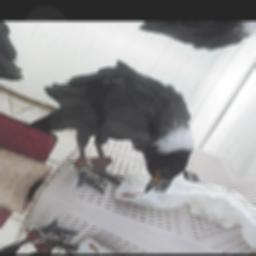Crow: (0, 40, 231, 220)
